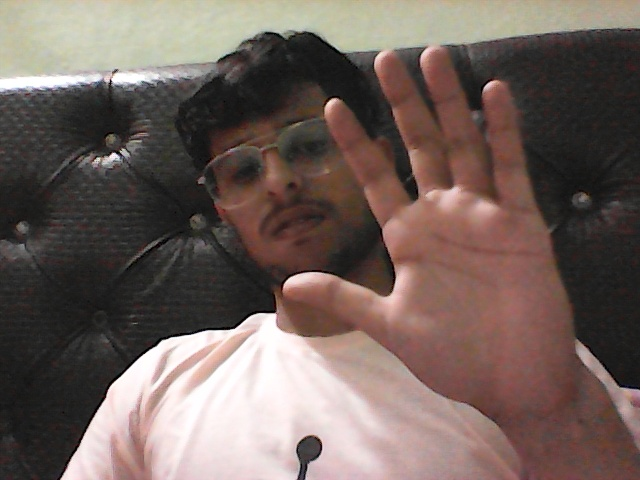hello: (276, 29, 607, 426)
